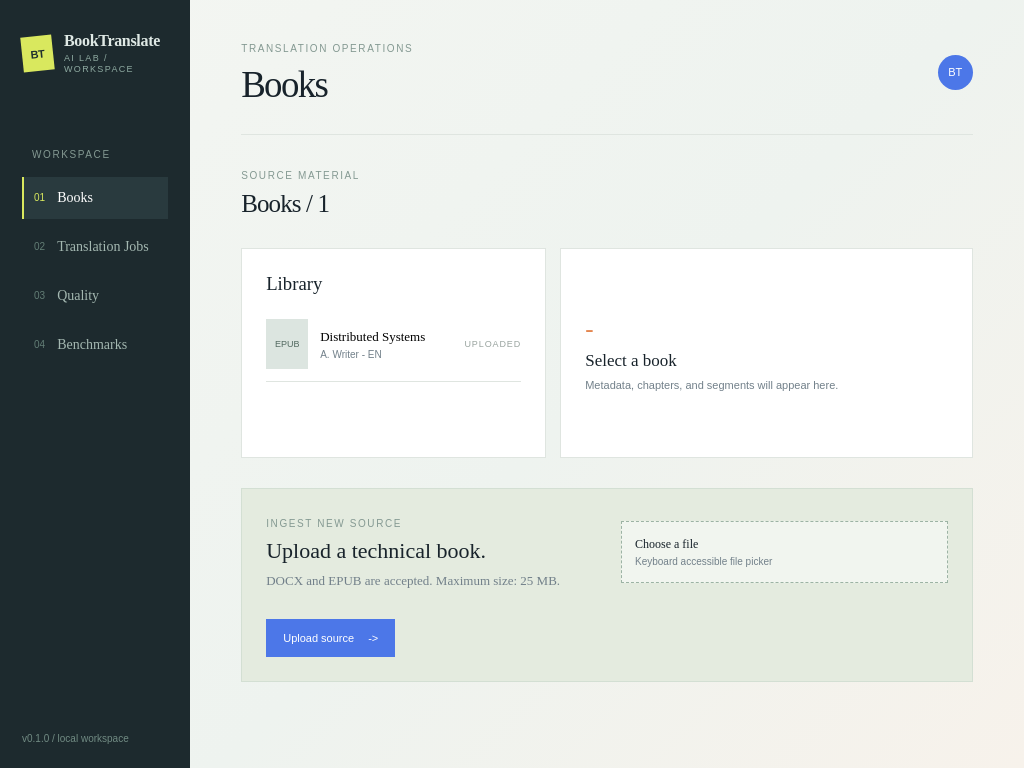
Test: does not leave the next section permanently busy after a save is invalidated by navigation
The width and height of the screenshot is (1024, 768).
Click the text "Distributed Systems". click: click(373, 336)
box: [320,328,425,344]
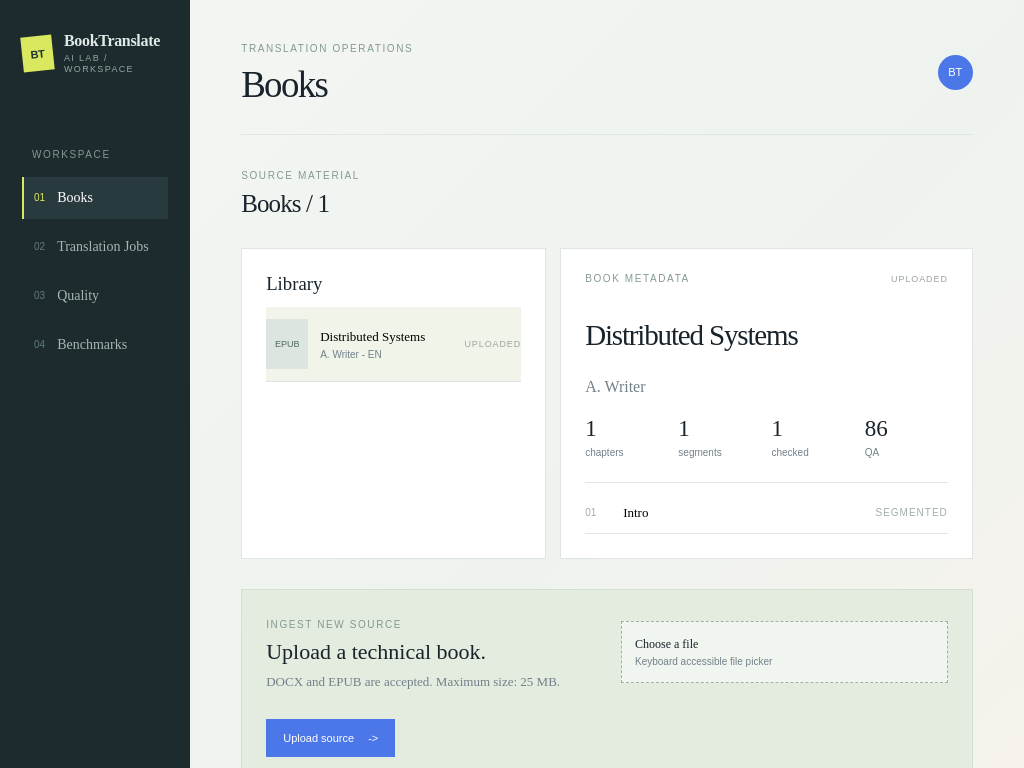
expect the text "Intro" is shown: met
Click the text "Intro". click: click(636, 512)
box: [623,505,648,520]
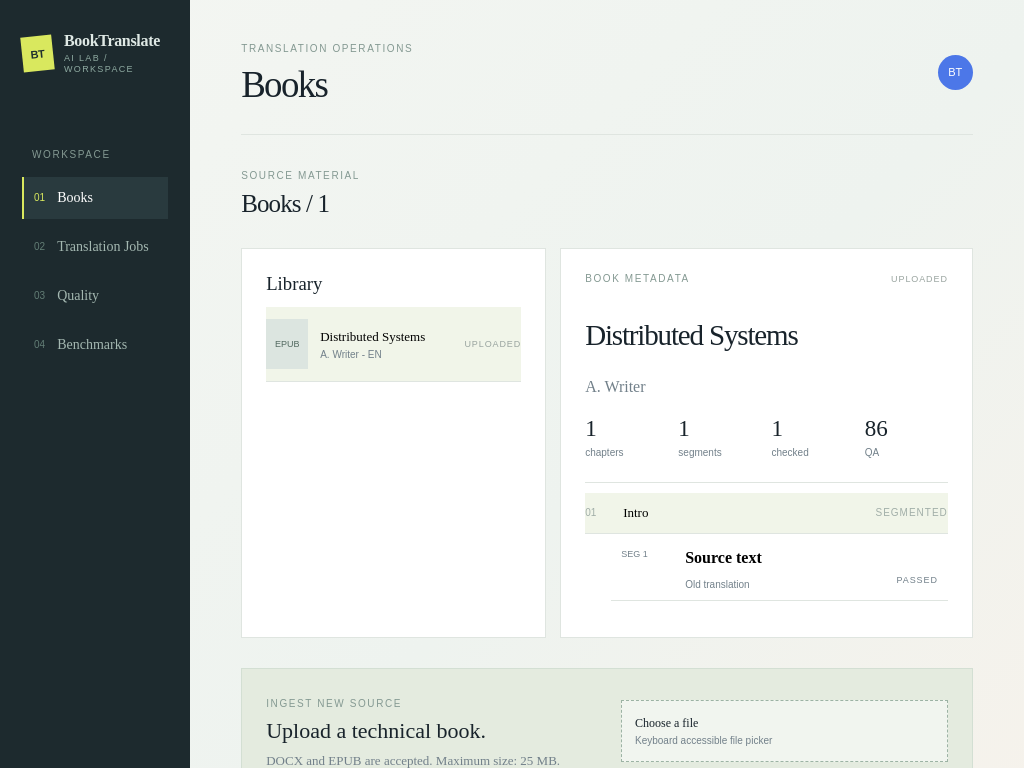
expect the text "Source text" is shown: met
Click the text "Source text". click: click(724, 557)
box: [685,549,762,566]
(page scrolled)
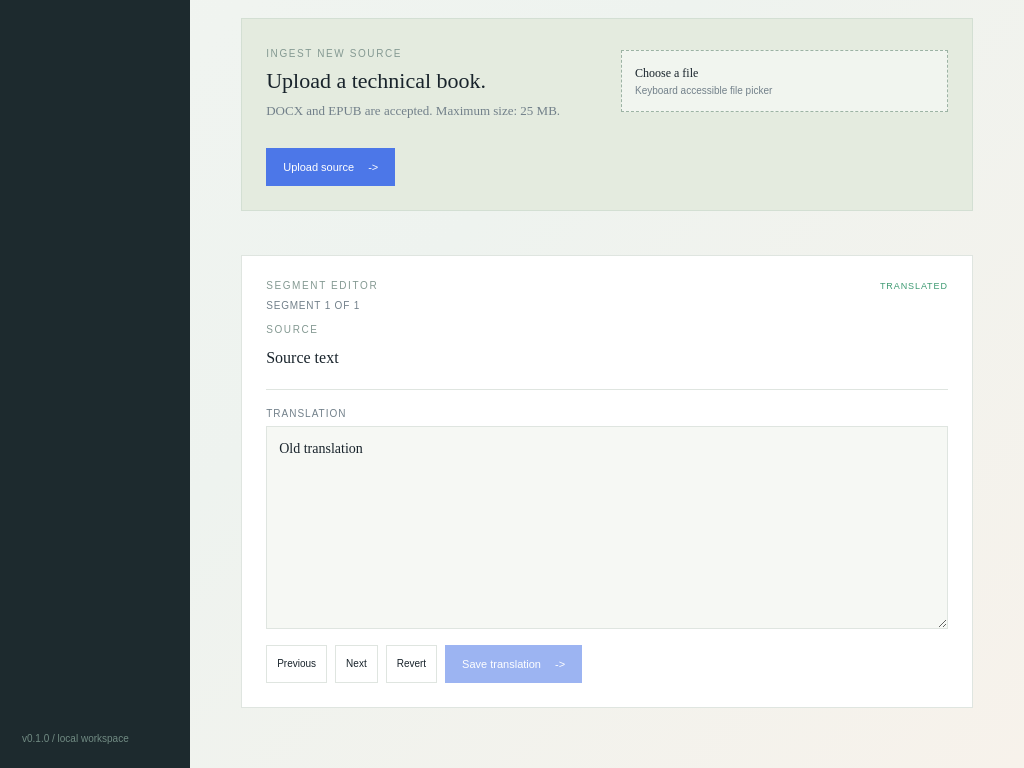
Replace the text in the text box labelled "Translation" with "Updated translation". click: (607, 527)
box: [266,426,948,629]
(page scrolled)
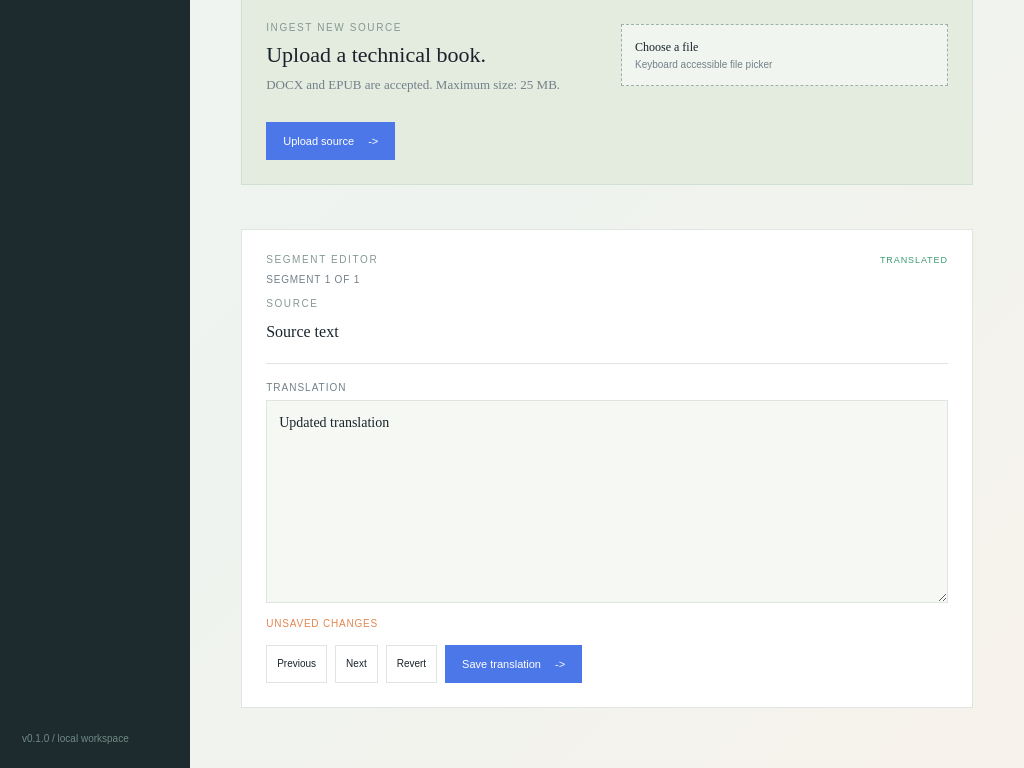
Click the button "Save translation ->". click: click(514, 664)
box: [445,645,582,683]
(page scrolled)
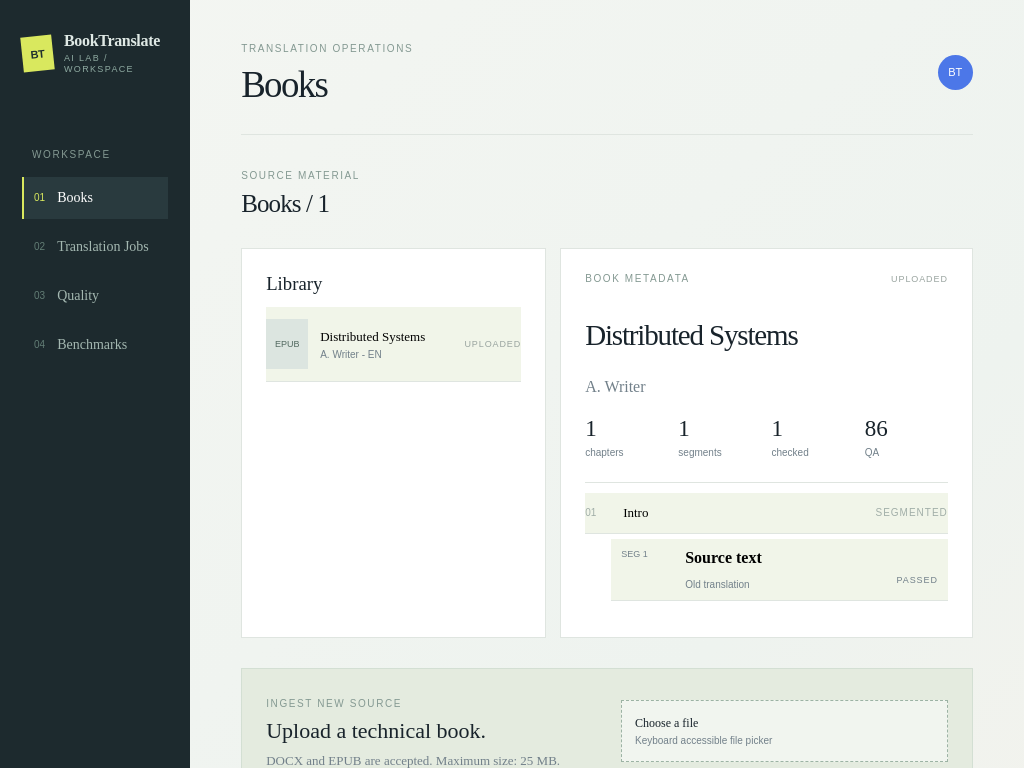
Click the button "03 Quality". click: click(95, 296)
box: [22,275,168,317]
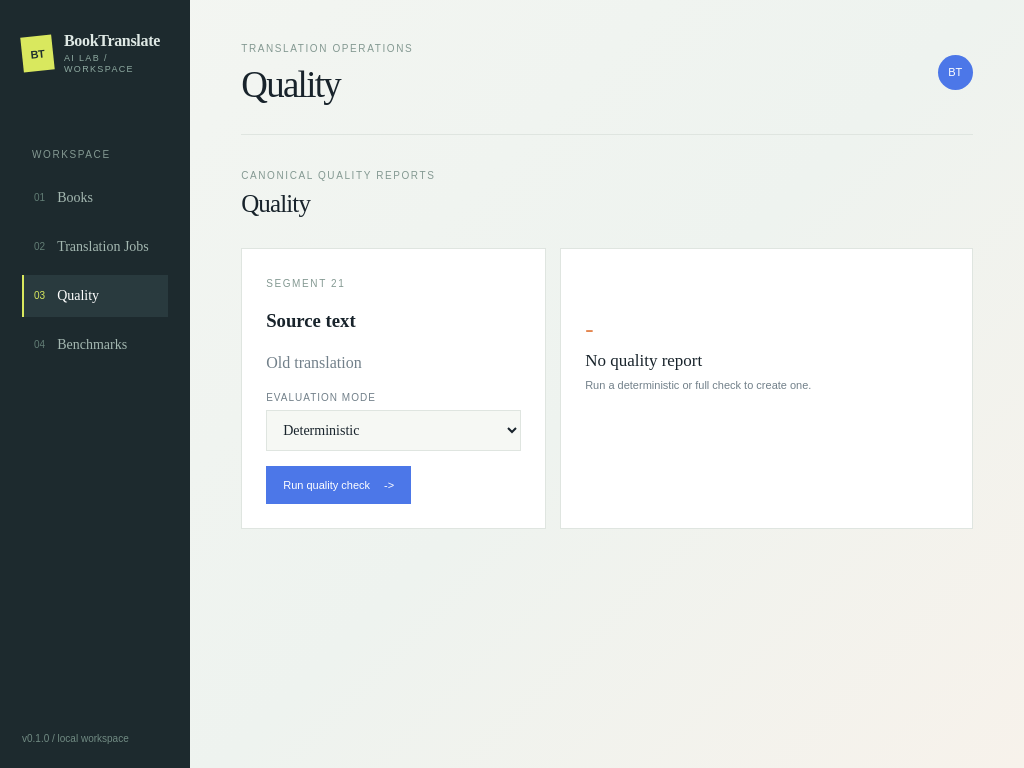
expect the heading "Quality" below "TRANSLATION OPERATIONS" is shown: met, box [241,64,340,105]
expect the button "Run quality check ->" is enabled: met, box [266,466,411,504]
